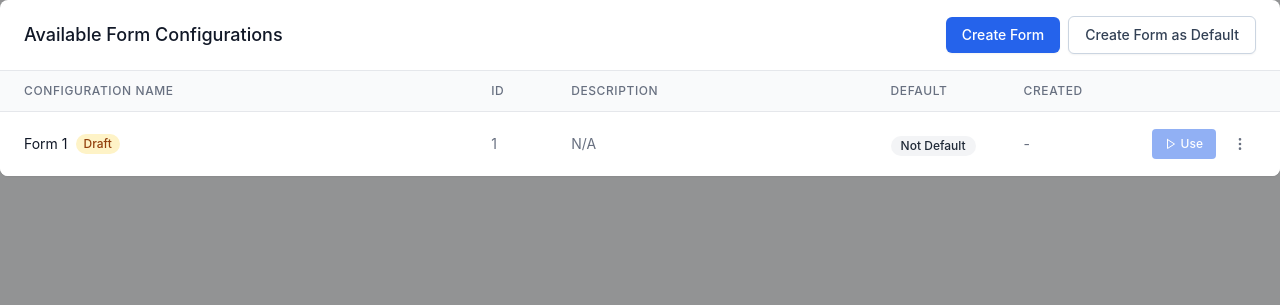
Test: a draft is marked, can't be used or made the default, and can't be duplicated yet
Expected: the text "Draft" is shown, [76,134,120,154]
Expected: the button "Use" is disabled, [1152,129,1216,159]
Click the button named "More actions for Form 1" at (1240, 144), box [1224,128,1256,160]
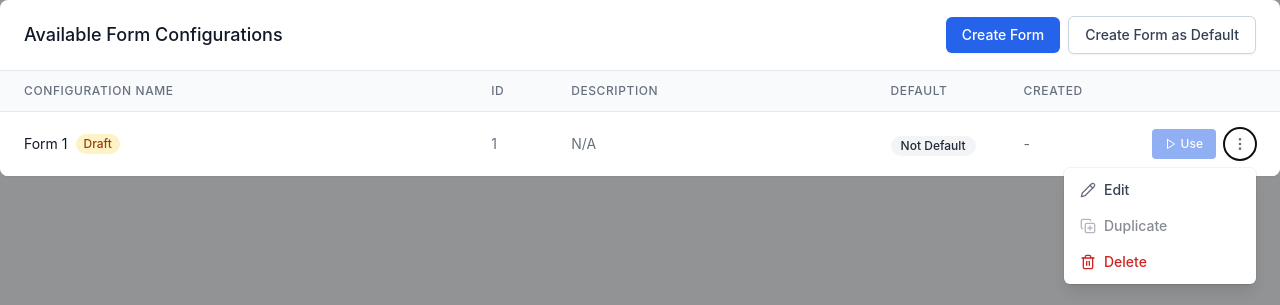
Result: the menu item "Duplicate" is disabled at [1064,208,1256,244]
